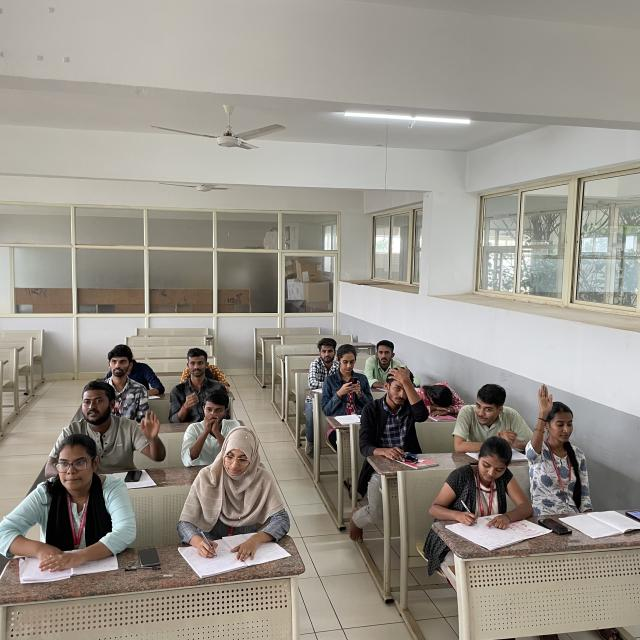Hand Rising: (59, 374, 169, 472), (525, 382, 594, 500), (365, 366, 428, 447)
Sleeping: (416, 379, 470, 417)
Using Phone: (322, 343, 372, 411)
Writing: (181, 430, 292, 572), (437, 438, 542, 540)
